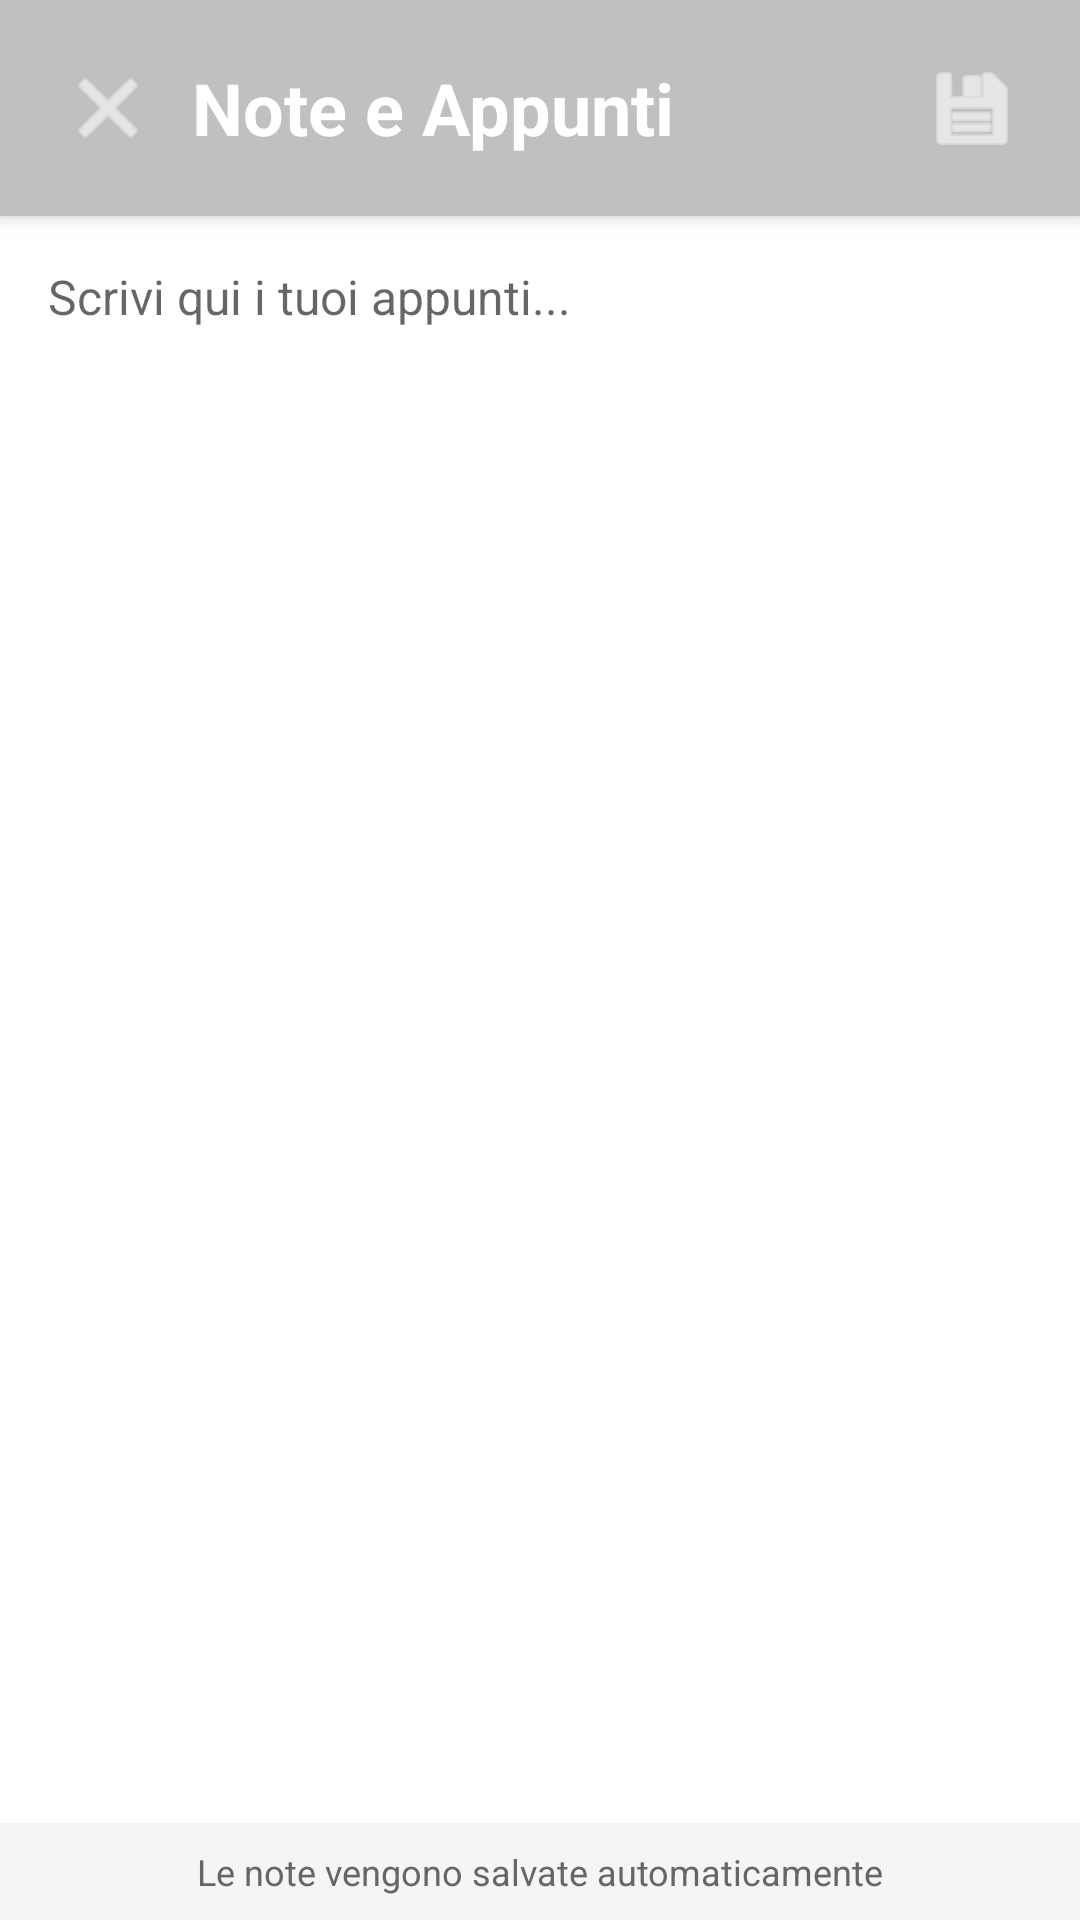

Icons on this 1080×1920 Android screen, each with the point to tap as (x=x, y=y):
Chiudi: (x=108, y=108)
Salva: (x=972, y=108)
